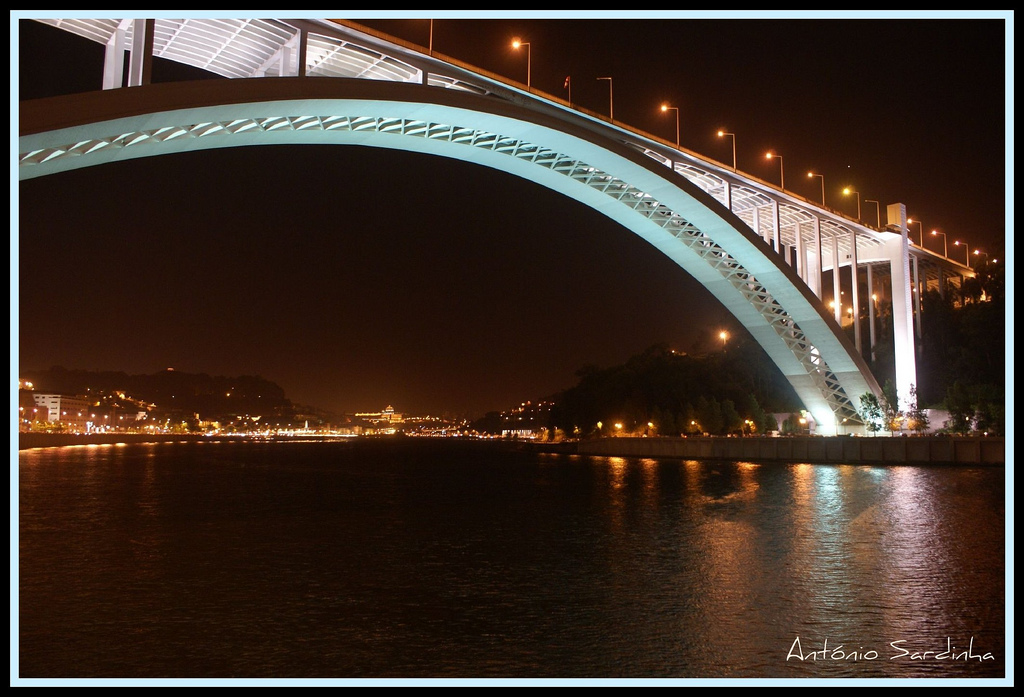arrabida: (20, 20, 981, 438)
